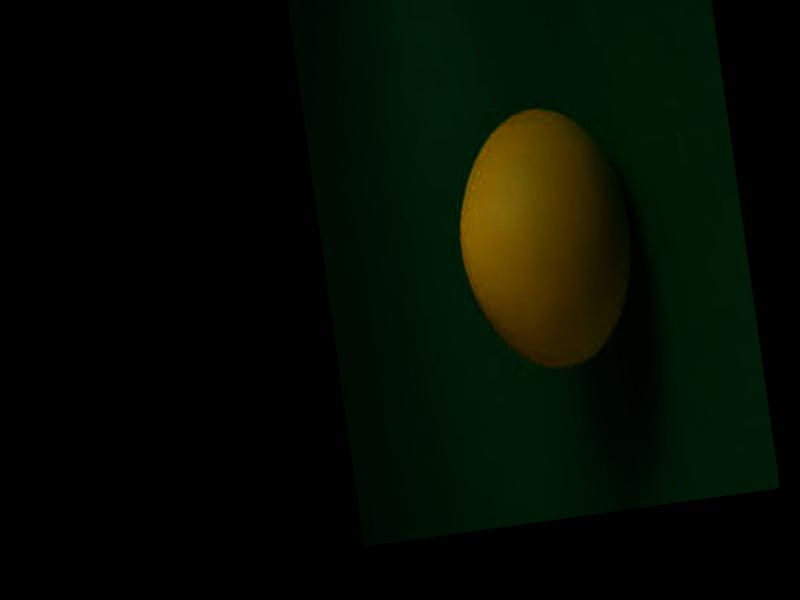Eggs: (441, 94, 648, 372)
